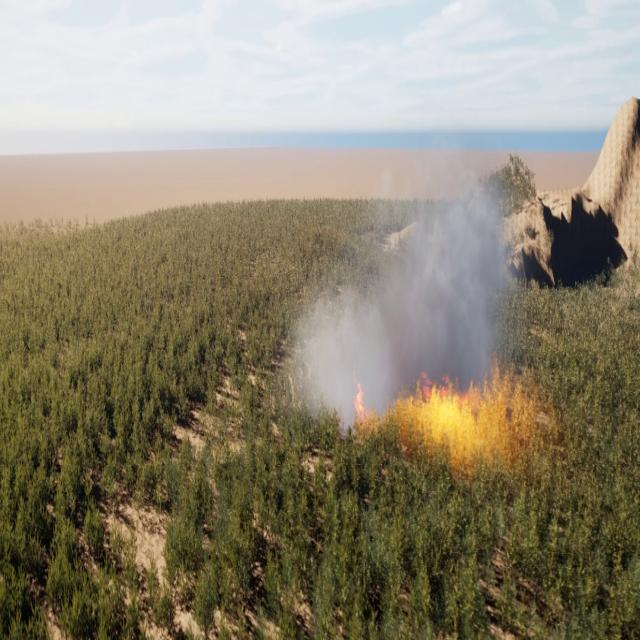fire: (392, 370, 553, 462), (349, 380, 371, 422)
smoke: (275, 133, 512, 425)
